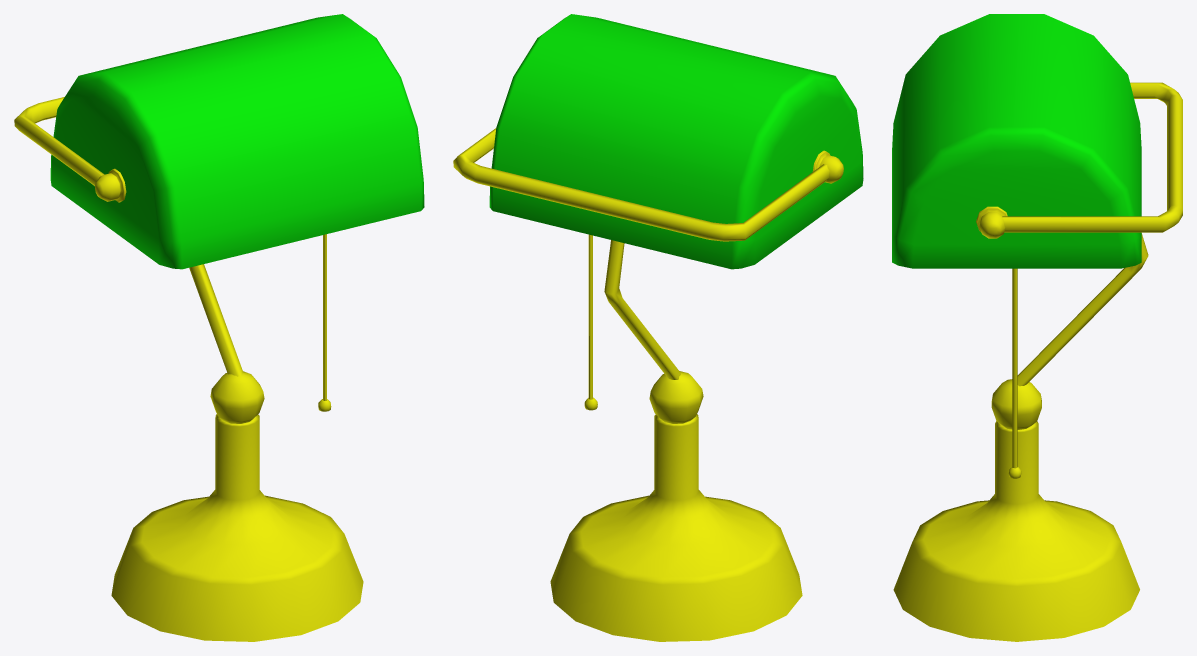
File: Lmp_Table.fbx
The picture shows the model from 3 angles, left to right: view 1: azimuth 30°, elevation 25°; view 2: azimuth 150°, elevation 25°; view 3: azimuth 270°, elevation 25°; orthographic projection. The views are drawn at different scales.
Visible parts, largest first — view 1: Lmp_Table; view 2: Lmp_Table; view 3: Lmp_Table.
Boxes of the visible parts, x1=… form: Lmp_Table: x1=14, y1=14, x2=424, y2=641; Lmp_Table: x1=453, y1=14, x2=863, y2=641; Lmp_Table: x1=892, y1=14, x2=1182, y2=641.
Bounding box in the file's own units: 26.58 × 44.46 × 22.57.
